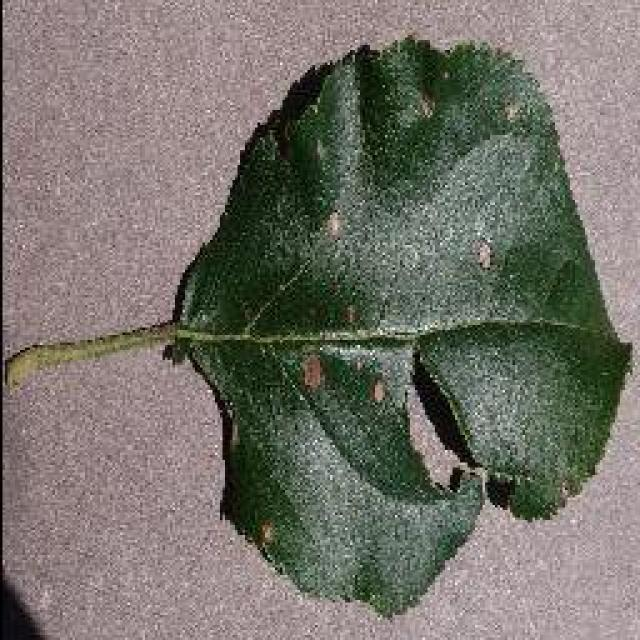apple healthy: (165, 32, 633, 618)
